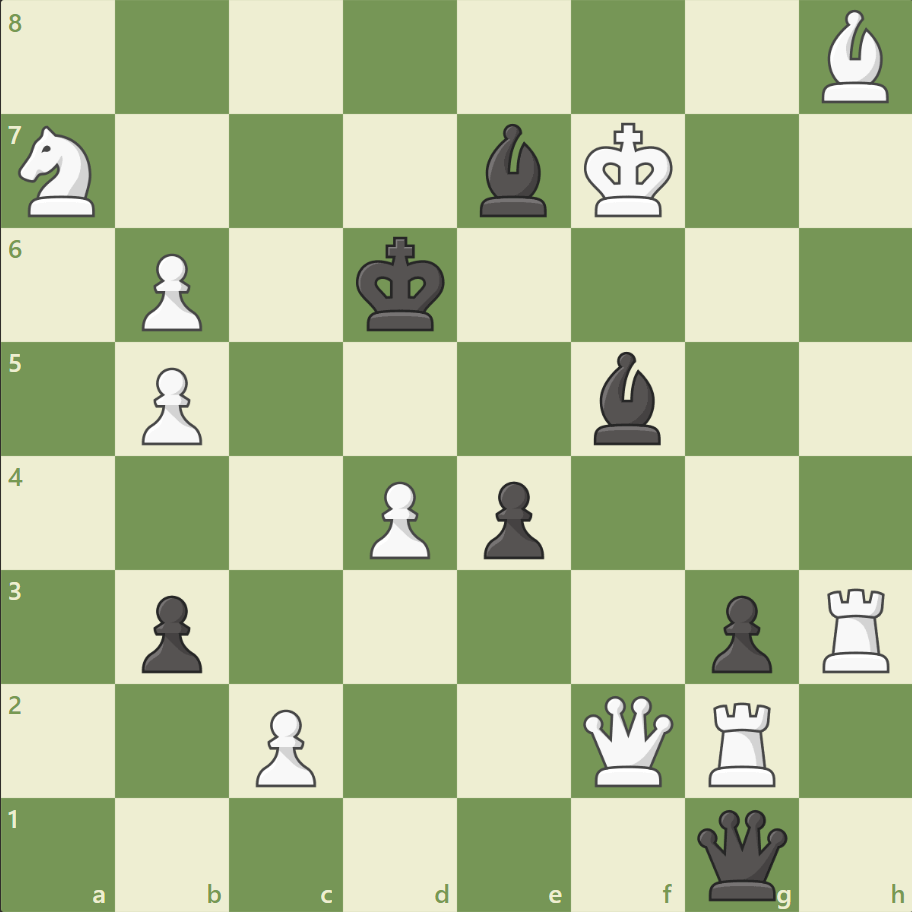B: (812, 6, 896, 109)
K: (579, 117, 679, 225)
N: (11, 121, 108, 223)
P: (133, 246, 208, 337), (133, 359, 208, 450), (247, 700, 322, 791), (361, 473, 435, 564)
Q: (578, 690, 677, 789)
R: (814, 579, 897, 676), (700, 693, 783, 790)
b: (471, 120, 555, 222), (585, 347, 669, 449)
k: (351, 231, 451, 339)
p: (474, 473, 549, 564), (133, 586, 208, 677), (701, 586, 776, 677)
q: (691, 804, 790, 903)
